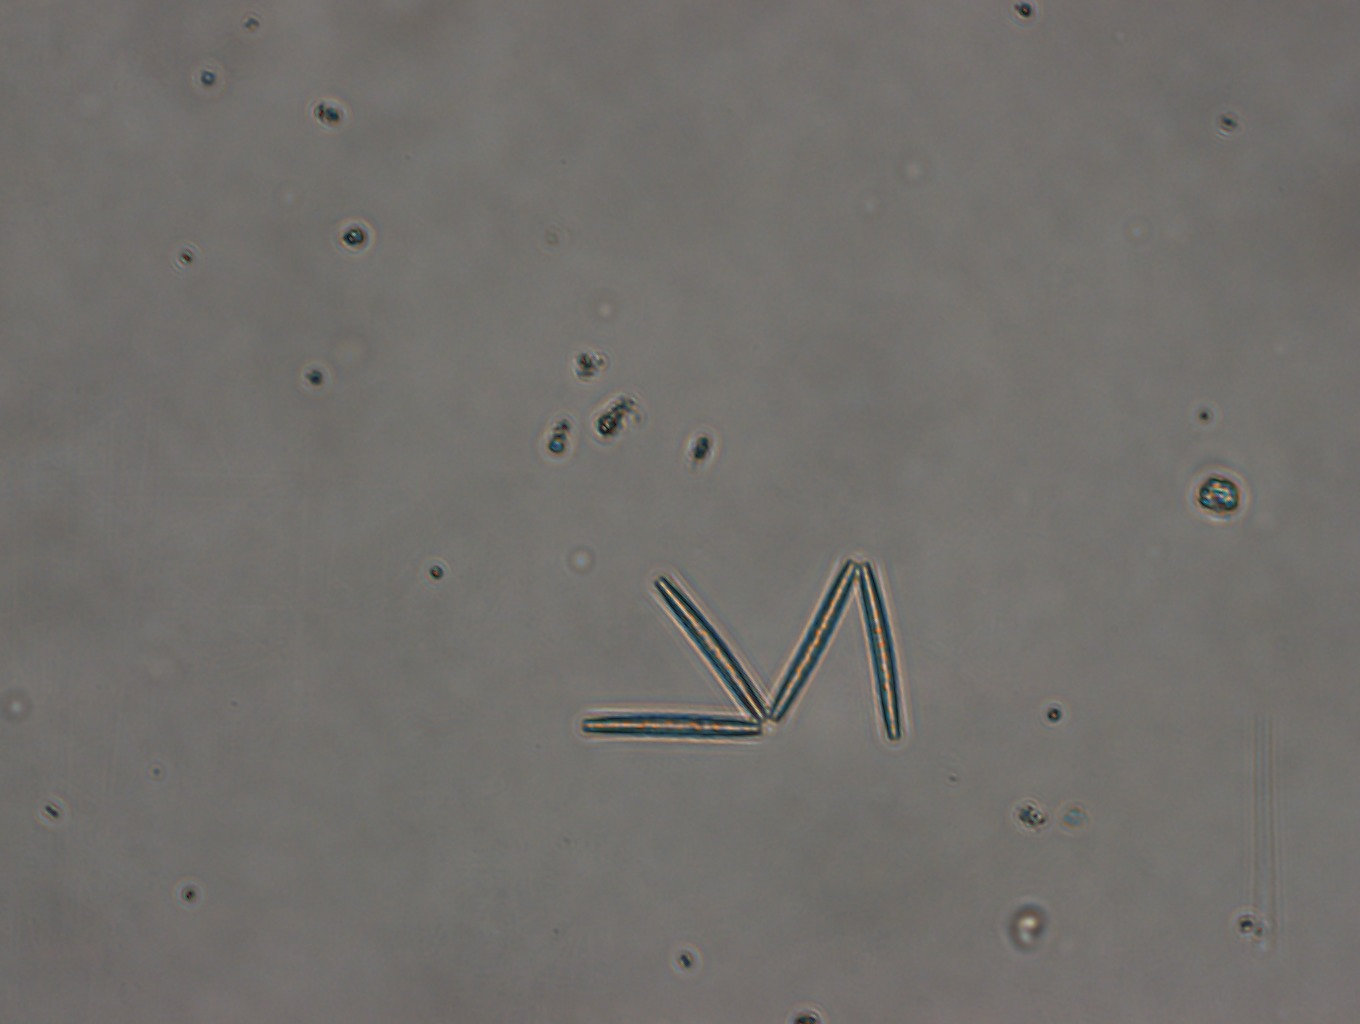thalassionema nitzschioides: (563, 550, 906, 749)
